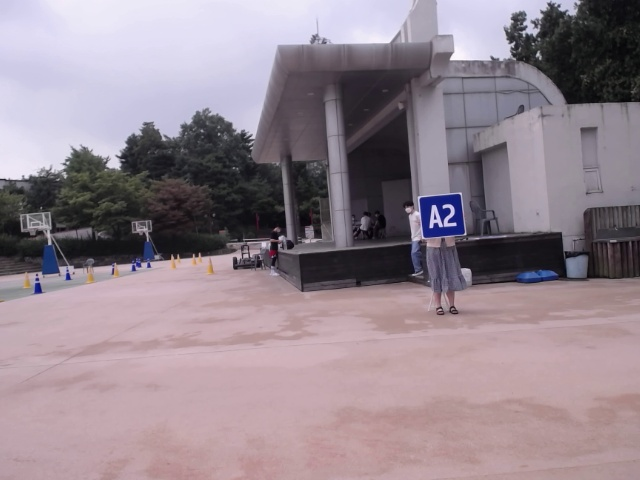delivery_a2: (419, 193, 466, 239)
